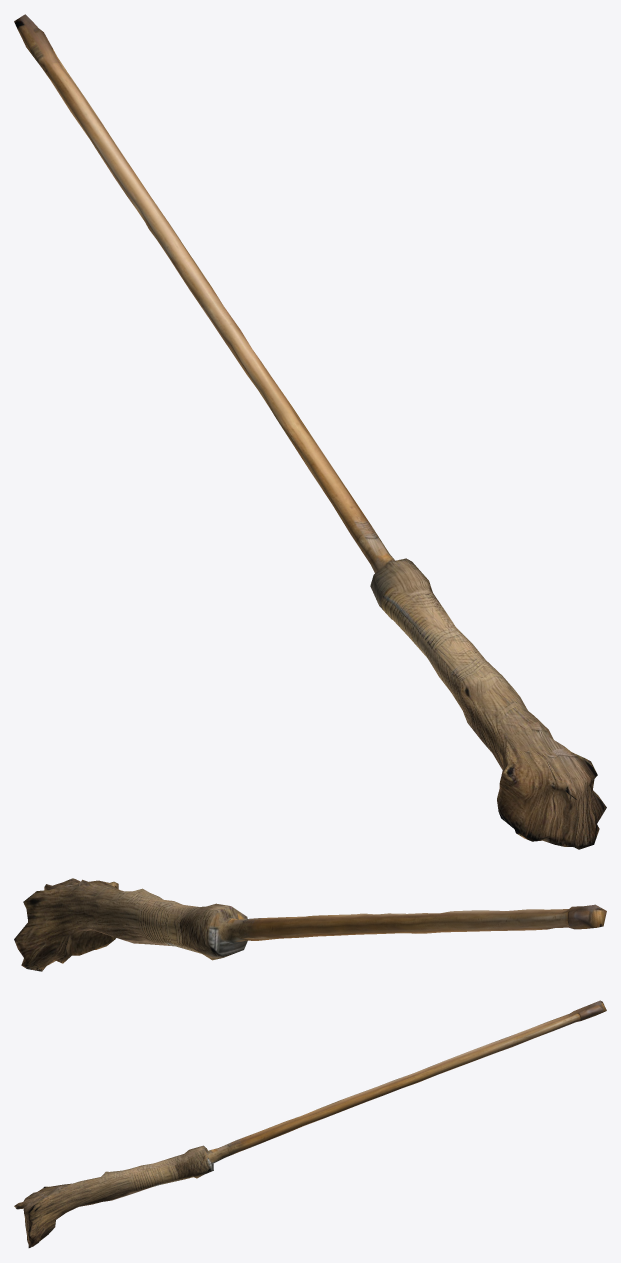
The picture shows the model from 3 angles, top to bottom: view 1: azimuth 30°, elevation 25°; view 2: azimuth 210°, elevation 25°; view 3: azimuth 270°, elevation 25°; orthographic projection. The views are drawn at different scales.
Visible parts, largest first — view 1: Mesh1.0; view 2: Mesh1.0; view 3: Mesh1.0.
Boxes of the visible parts, x1,y1,x2,y2 form: Mesh1.0: (14, 14, 606, 849); Mesh1.0: (14, 878, 606, 971); Mesh1.0: (14, 1000, 606, 1247).
Size of the model in its own units: 18.97 by 90.35 by 201.
1 material, 1 textured.
